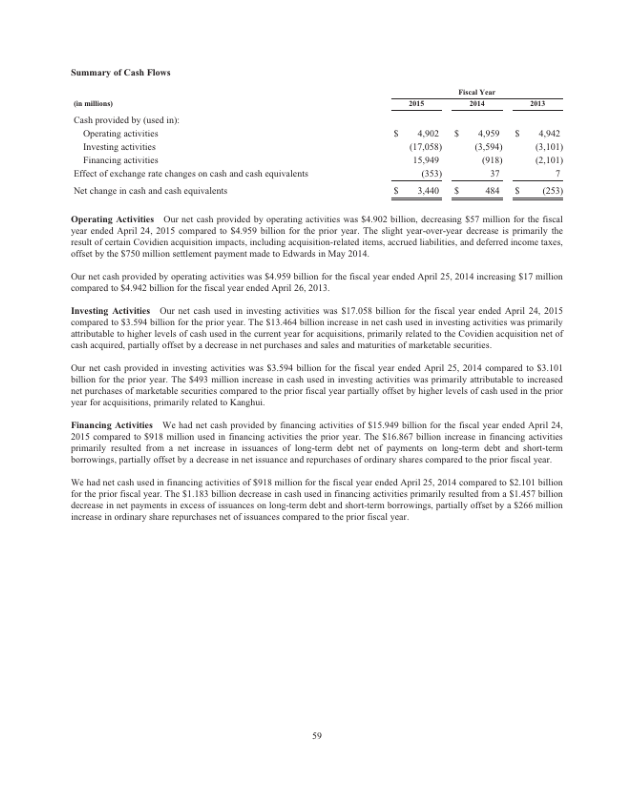table: (385, 82, 568, 202)
